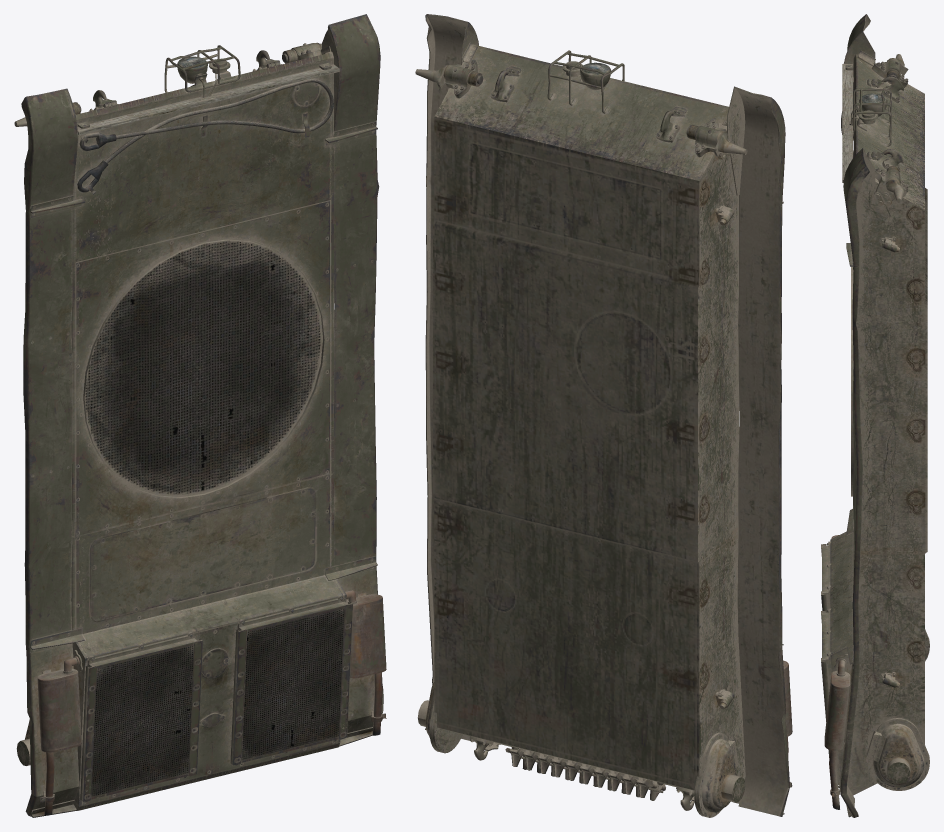
The model's file is Hull.glb.
The picture shows the model from 3 angles, left to right: view 1: azimuth 30°, elevation 25°; view 2: azimuth 150°, elevation 25°; view 3: azimuth 270°, elevation 25°; orthographic projection. The views are drawn at different scales.
Visible parts, largest first — view 1: set_0_group_0; view 2: set_0_group_0; view 3: set_0_group_0.
Boxes of the visible parts, left/top/right/bottom form: set_0_group_0: left=14, top=14, right=386, bottom=817; set_0_group_0: left=415, top=14, right=792, bottom=817; set_0_group_0: left=821, top=14, right=929, bottom=817.
Bounding box in the file's own units: 2.82 × 5.46 × 0.8257.
1 material, 1 textured.
